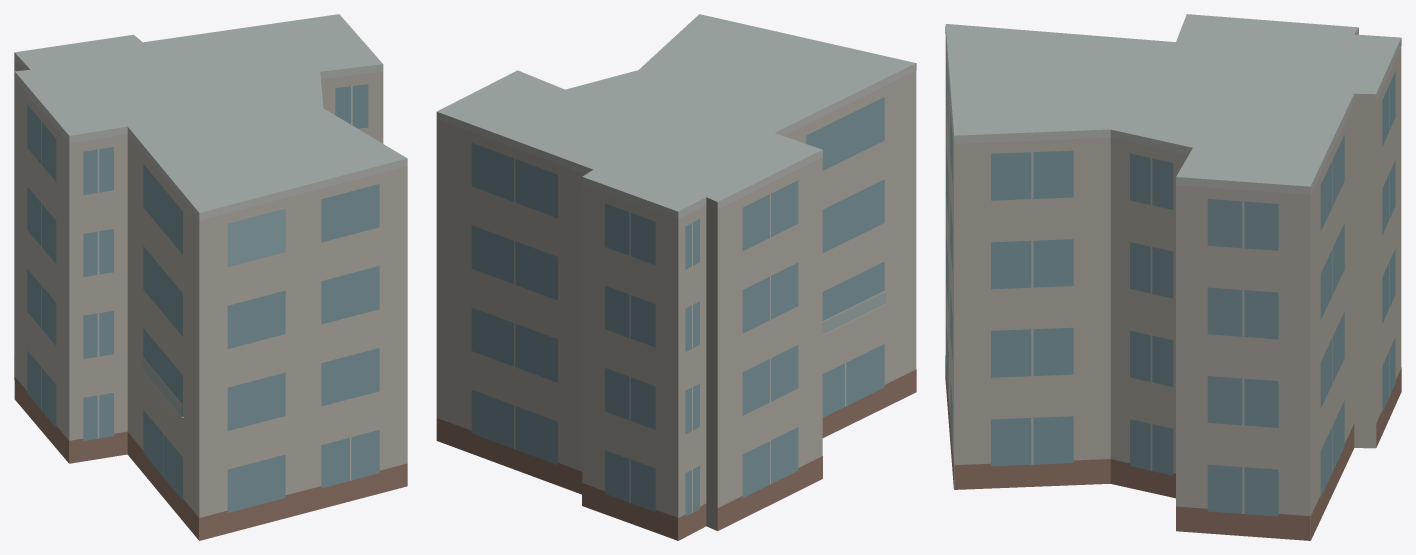
The model's file is survey-upis-32966521.glb.
3 views of the same model, side by side, from view 1: azimuth 30°, elevation 25°; view 2: azimuth 150°, elevation 25°; view 3: azimuth 270°, elevation 25° (orthographic). The views are drawn at different scales.
Parts seen in each view (by area): view 1: survey-upis-32966521.tmp; view 2: survey-upis-32966521.tmp; view 3: survey-upis-32966521.tmp.
Boxes of the visible parts, left/top/right/bottom form: survey-upis-32966521.tmp: left=14, top=14, right=407, bottom=540; survey-upis-32966521.tmp: left=436, top=14, right=916, bottom=540; survey-upis-32966521.tmp: left=945, top=14, right=1401, bottom=540.
Size of the model in its own units: 11.14 by 10.65 by 12.43.
